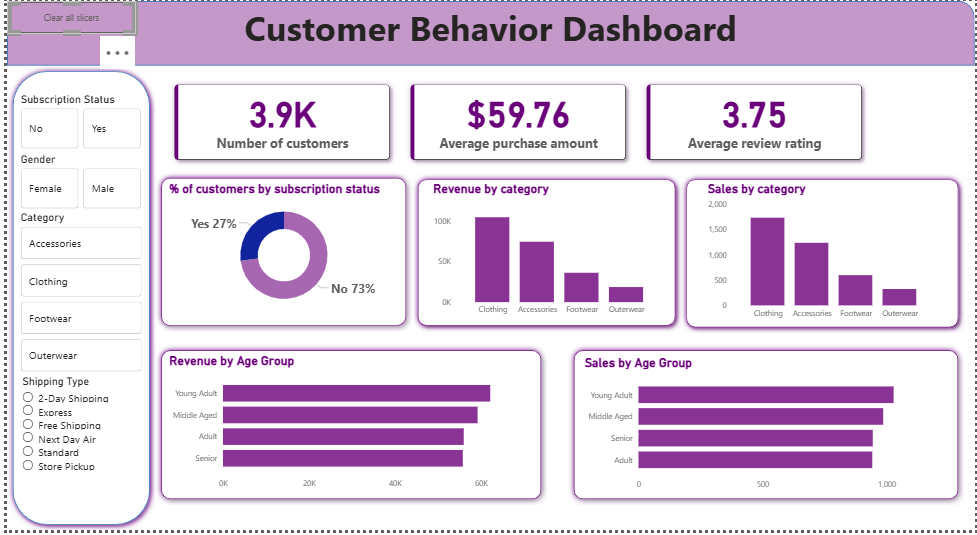

The dashboard page shown, as its layout file describes it:
{"tool":"powerbi","page":{"name":"Page 1","canvas":[1500,820],"ordinal":0},"visuals":[{"type":"cardVisual","fields":{"Data":["public customer.Number of customers","public customer.Average purchase amount","public customer.Average review rating"]},"box":[230,100,1125,175],"z":0},{"type":"shape","box":[0,0,1500,100],"z":1},{"type":"textbox","box":[0,0,1500,100],"z":2},{"type":"shape","box":[230,265,397.5,247.5],"z":3},{"type":"donutChart","title":"% of customers by subscription status","fields":{"Category":["public customer.subscription_status"],"Y":["CountNonNull(public customer.customer_id)"]},"box":[247.5,280,365,207.5],"z":4},{"type":"shape","box":[627.5,267.5,417.5,245],"z":5},{"type":"shape","box":[1045,267.5,440,247.5],"z":6},{"type":"clusteredColumnChart","title":"Revenue by category","fields":{"Y":["Sum(public customer.purchase_amount)"],"Category":["public customer.category"]},"box":[655,280,365,217.5],"z":7},{"type":"clusteredColumnChart","title":"Sales by category","fields":{"Y":["CountNonNull(public customer.purchase_amount)"],"Category":["public customer.category"]},"box":[1082.5,280,362.5,222.5],"z":8},{"type":"shape","box":[0,100,230.2,720.9],"z":9},{"type":"advancedSlicerVisual","title":"Subscription Status","fields":{"Values":["public customer.subscription_status"]},"box":[15.6,142.2,196.9,92.2],"z":10},{"type":"advancedSlicerVisual","title":"Gender","fields":{"Values":["public customer.gender"]},"box":[15.6,234.4,196.9,92.2],"z":11},{"type":"advancedSlicerVisual","title":"Category","fields":{"Values":["public customer.category"]},"box":[16.3,325.6,197.7,253.5],"z":12},{"type":"listSlicer","title":"Shipping Type","fields":{"Values":["public customer.shipping_type"]},"box":[18.6,579.1,195.3,202.3],"z":13},{"type":"shape","box":[230.2,532.6,607,248.8],"z":14},{"type":"shape","box":[869.8,532.6,614,248.8],"z":15},{"type":"clusteredBarChart","title":"Revenue by Age Group","fields":{"Y":["Sum(public customer.purchase_amount)"],"Category":["public customer.age_group"]},"box":[246.5,546.5,569.8,218.6],"z":16},{"type":"clusteredBarChart","title":"Sales by Age Group","fields":{"Y":["CountNonNull(public customer.purchase_amount)"],"Category":["public customer.age_group"]},"box":[890.7,548.8,569.8,218.6],"z":17}]}

Visuals, with their boxes in screenshot pixels (x1, y1, x2, y2):
cardVisual - public customer.Number of customers x public customer.Average purchase amount: box(150, 64, 873, 177)
shape: box(3, 0, 966, 64)
textbox: box(3, 0, 966, 64)
shape: box(150, 170, 406, 329)
"% of customers by subscription status" donutChart: box(162, 180, 396, 313)
shape: box(406, 172, 674, 329)
shape: box(674, 172, 956, 331)
"Revenue by category" clusteredColumnChart: box(423, 180, 658, 320)
"Sales by category" clusteredColumnChart: box(698, 180, 931, 323)
shape: box(3, 64, 150, 527)
"Subscription Status" advancedSlicerVisual: box(13, 91, 139, 151)
"Gender" advancedSlicerVisual: box(13, 151, 139, 210)
"Category" advancedSlicerVisual: box(13, 209, 140, 372)
"Shipping Type" listSlicer: box(14, 372, 140, 502)
shape: box(150, 342, 540, 502)
shape: box(561, 342, 956, 502)
"Revenue by Age Group" clusteredBarChart: box(161, 351, 527, 491)
"Sales by Age Group" clusteredBarChart: box(575, 353, 941, 493)
